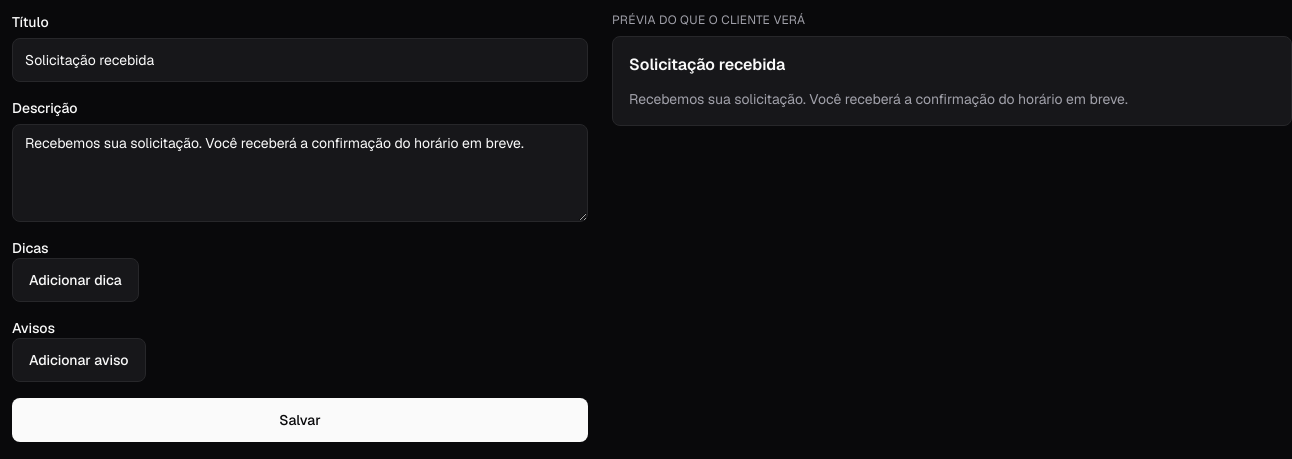
Test case: PostBookingTextForm › renderiza marcação como texto puro, nunca como HTML
Replace the text in the field labelled "Título" with "<script>alert(1)</script>": {"x": 300, "y": 60} [12,38,588,82]
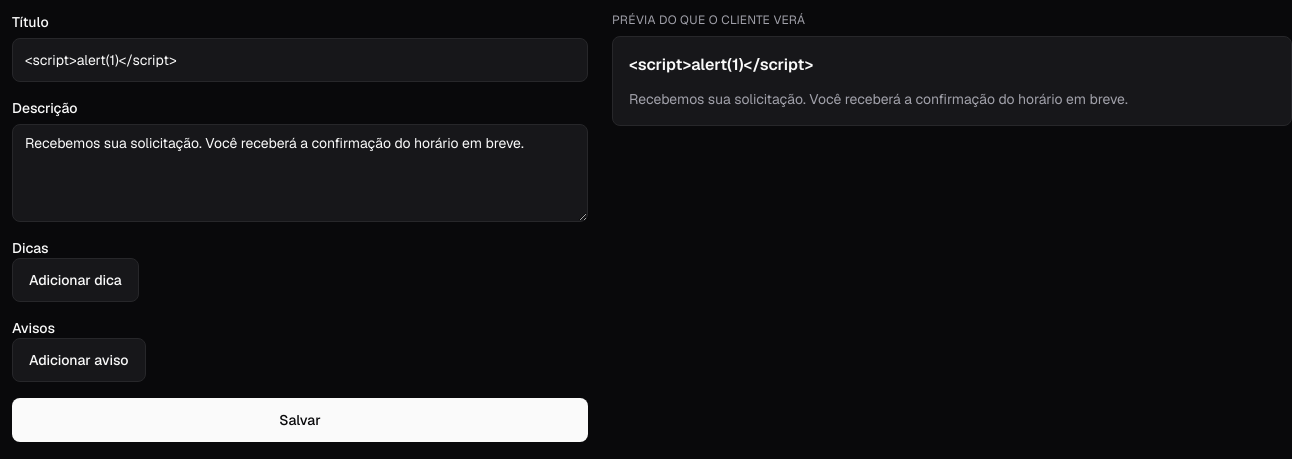
Expected: the text "<script>alert(1)</script>" is shown, [629,54,813,75]
